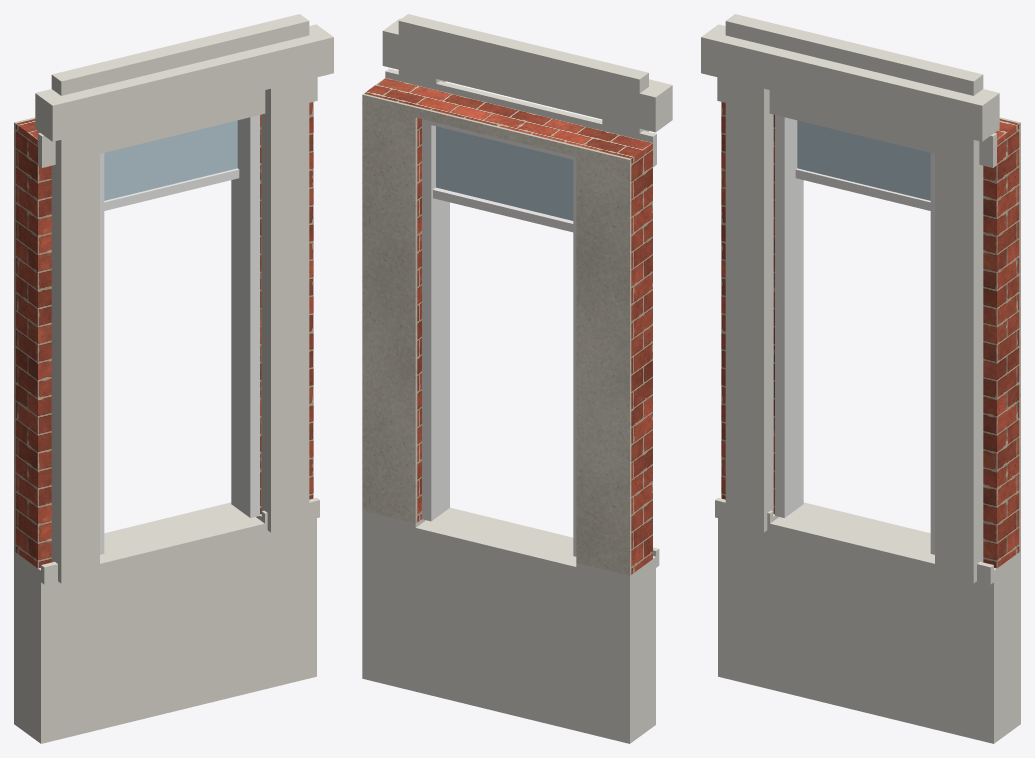
File: wall_a0_entry.glb
3 renders of one model, left to right at view 1: azimuth 30°, elevation 25°; view 2: azimuth 150°, elevation 25°; view 3: azimuth 330°, elevation 25°, orthographic. The views are drawn at different scales.
Parts seen in each view (by area): view 1: wall_a0_entry_lime, wall_a0_entry_brick, wall_a0_entry_frame, wall_a0_entry_glass, wall_a0_entry_plaster; view 2: wall_a0_entry_lime, wall_a0_entry_plaster, wall_a0_entry_brick, wall_a0_entry_frame, wall_a0_entry_glass; view 3: wall_a0_entry_lime, wall_a0_entry_brick, wall_a0_entry_frame, wall_a0_entry_glass, wall_a0_entry_plaster.
Part boxes in pixels (x1,y1,x2,y2): wall_a0_entry_lime: (14, 14, 333, 743); wall_a0_entry_brick: (15, 102, 313, 568); wall_a0_entry_frame: (100, 115, 259, 554); wall_a0_entry_glass: (104, 120, 237, 200); wall_a0_entry_plaster: (14, 117, 35, 551); wall_a0_entry_lime: (362, 14, 672, 743); wall_a0_entry_plaster: (362, 93, 631, 575); wall_a0_entry_brick: (364, 78, 652, 574); wall_a0_entry_frame: (422, 119, 576, 556); wall_a0_entry_glass: (436, 126, 573, 220); wall_a0_entry_lime: (701, 14, 1020, 743); wall_a0_entry_brick: (721, 102, 1019, 568); wall_a0_entry_frame: (775, 115, 934, 554); wall_a0_entry_glass: (797, 120, 930, 200); wall_a0_entry_plaster: (999, 117, 1020, 551).
Bounding box in the file's own units: 2.04 × 4.6 × 0.52.
Materials: 5 (2 with a texture image).
